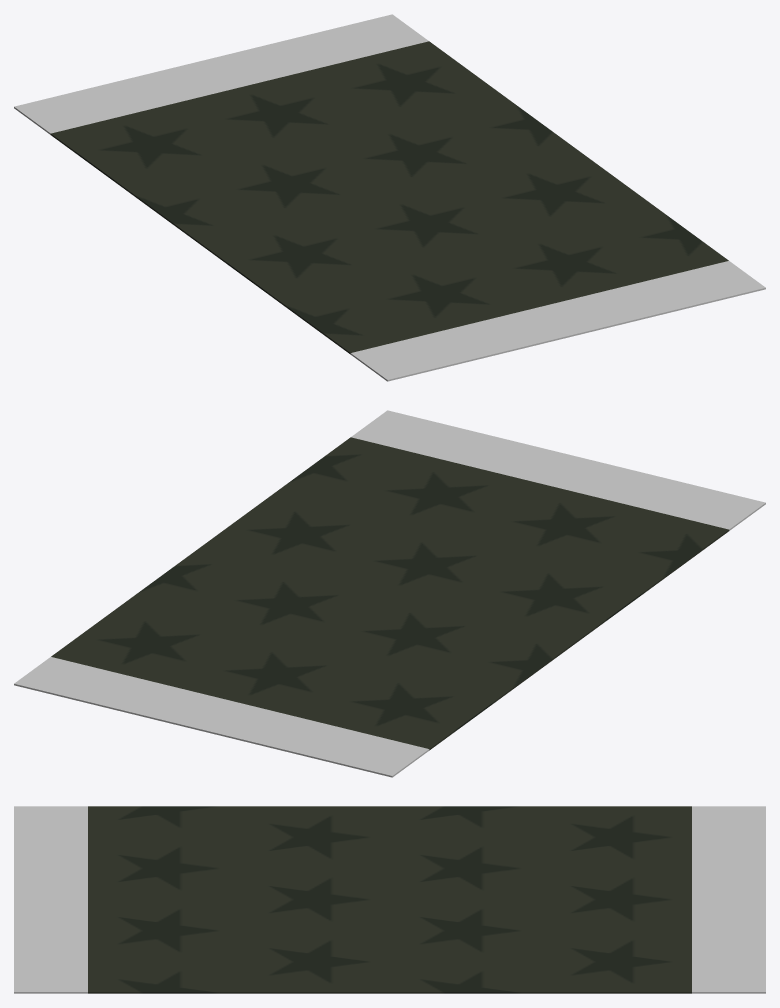
File: Carpet.fbx
The picture shows the model from 3 angles, top to bottom: view 1: azimuth 30°, elevation 25°; view 2: azimuth 150°, elevation 25°; view 3: azimuth 270°, elevation 25°; orthographic projection.
Visible parts, largest first — view 1: Cube.031; view 2: Cube.031; view 3: Cube.031.
Part boxes in pixels (x1,y1,x2,y2): Cube.031: [14, 14, 765, 381]; Cube.031: [14, 410, 765, 777]; Cube.031: [14, 806, 765, 993].
Bounding box in the file's own units: 200 × 0.8051 × 342.
